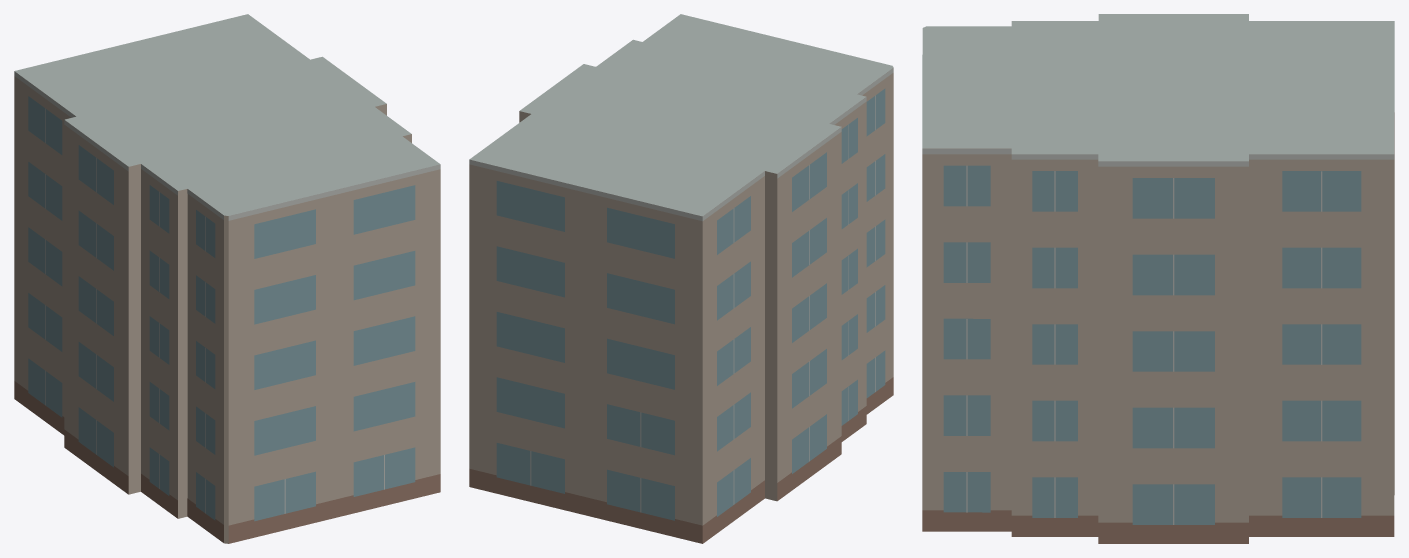
Rendered from survey-upis-33021091.glb.
3 renders of one model, left to right at view 1: azimuth 30°, elevation 25°; view 2: azimuth 150°, elevation 25°; view 3: azimuth 270°, elevation 25°, orthographic. The views are drawn at different scales.
Parts seen in each view (by area): view 1: survey-upis-33021091.tmp; view 2: survey-upis-33021091.tmp; view 3: survey-upis-33021091.tmp.
Boxes of the visible parts, x1,y1,x2,y2 form: survey-upis-33021091.tmp: (14,14,440,543); survey-upis-33021091.tmp: (469,14,893,543); survey-upis-33021091.tmp: (922,14,1394,543).
Bounding box in the file's own units: 13.7 × 16.6 × 18.58.
